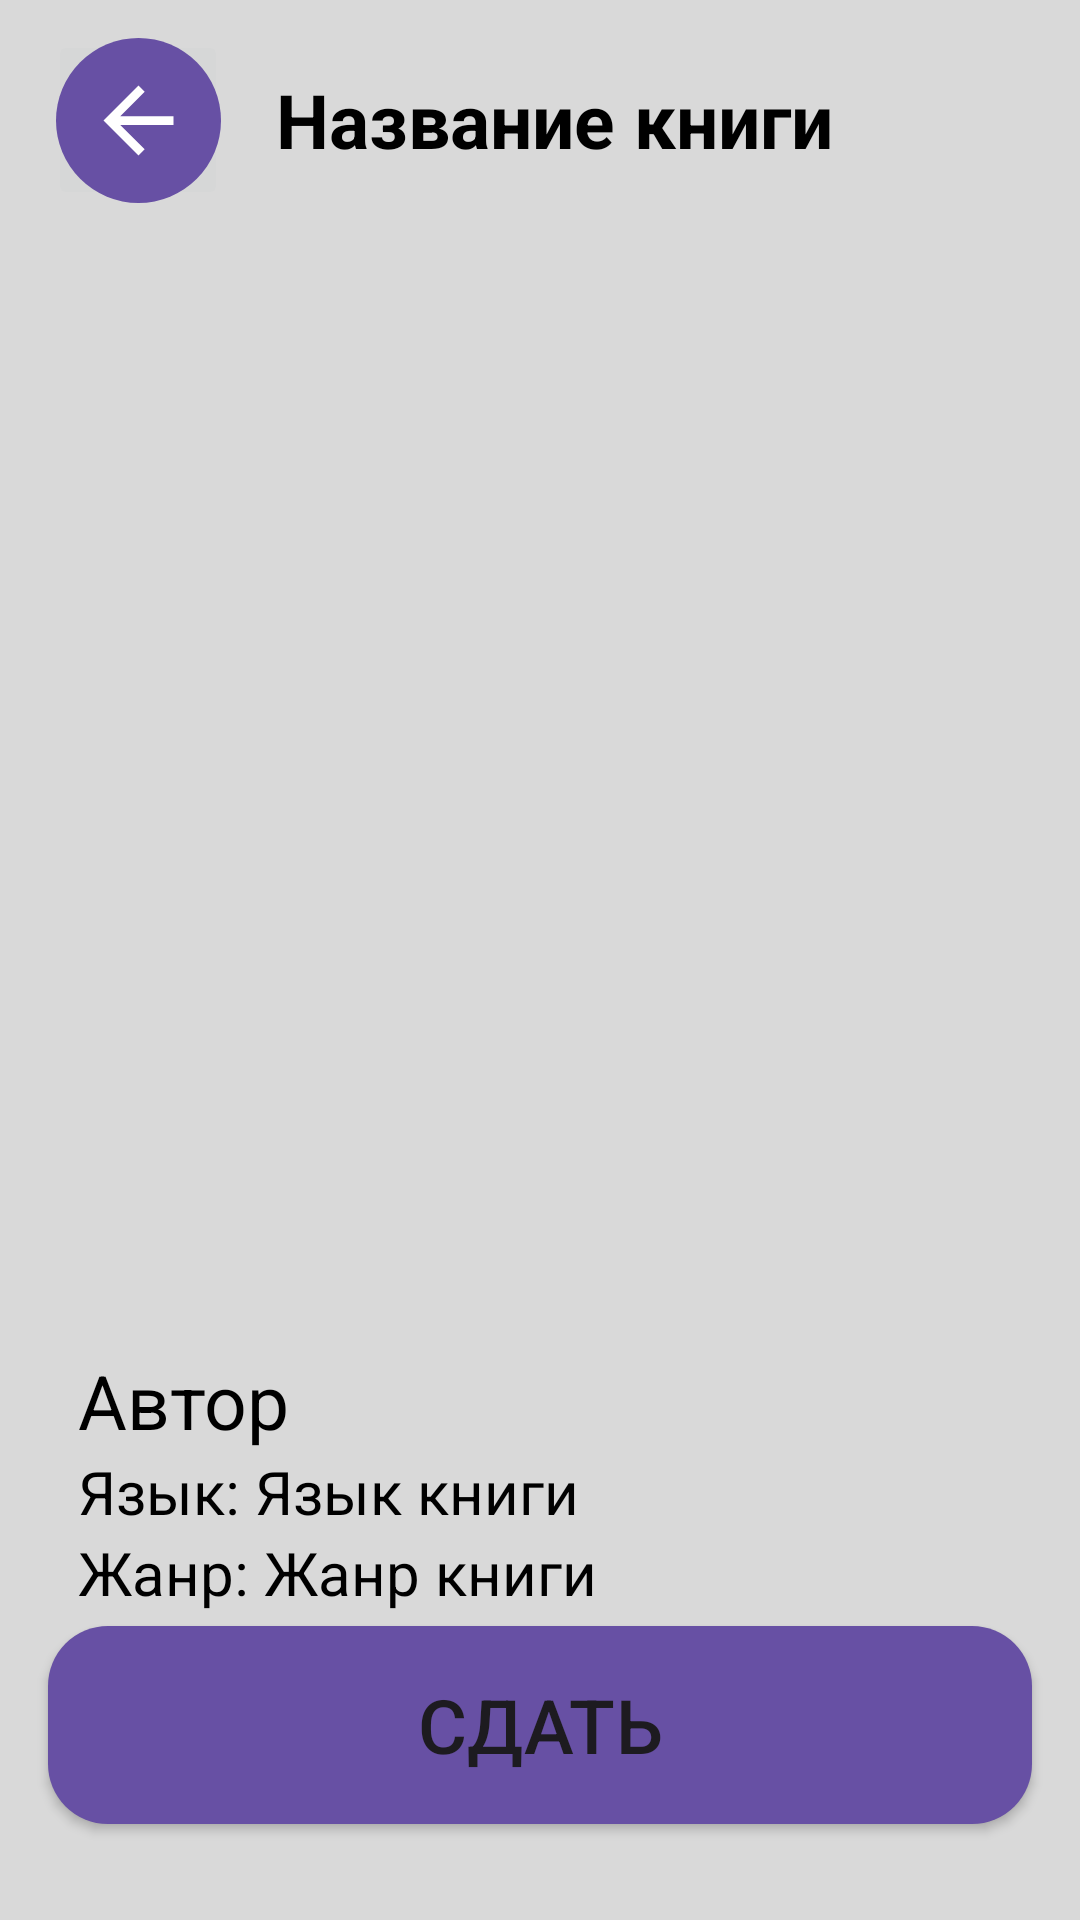

Screen size 1080 × 1920. Icon name, then its center in pixels as [x,y]:
back: [138,120]
